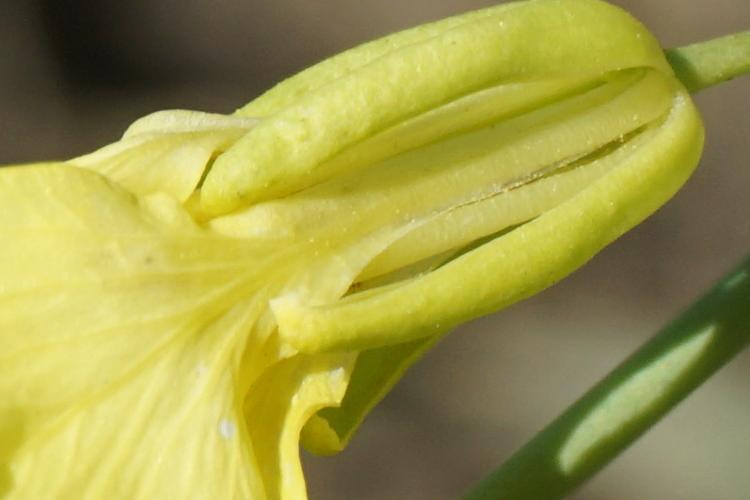yellow: (16, 23, 700, 469)
